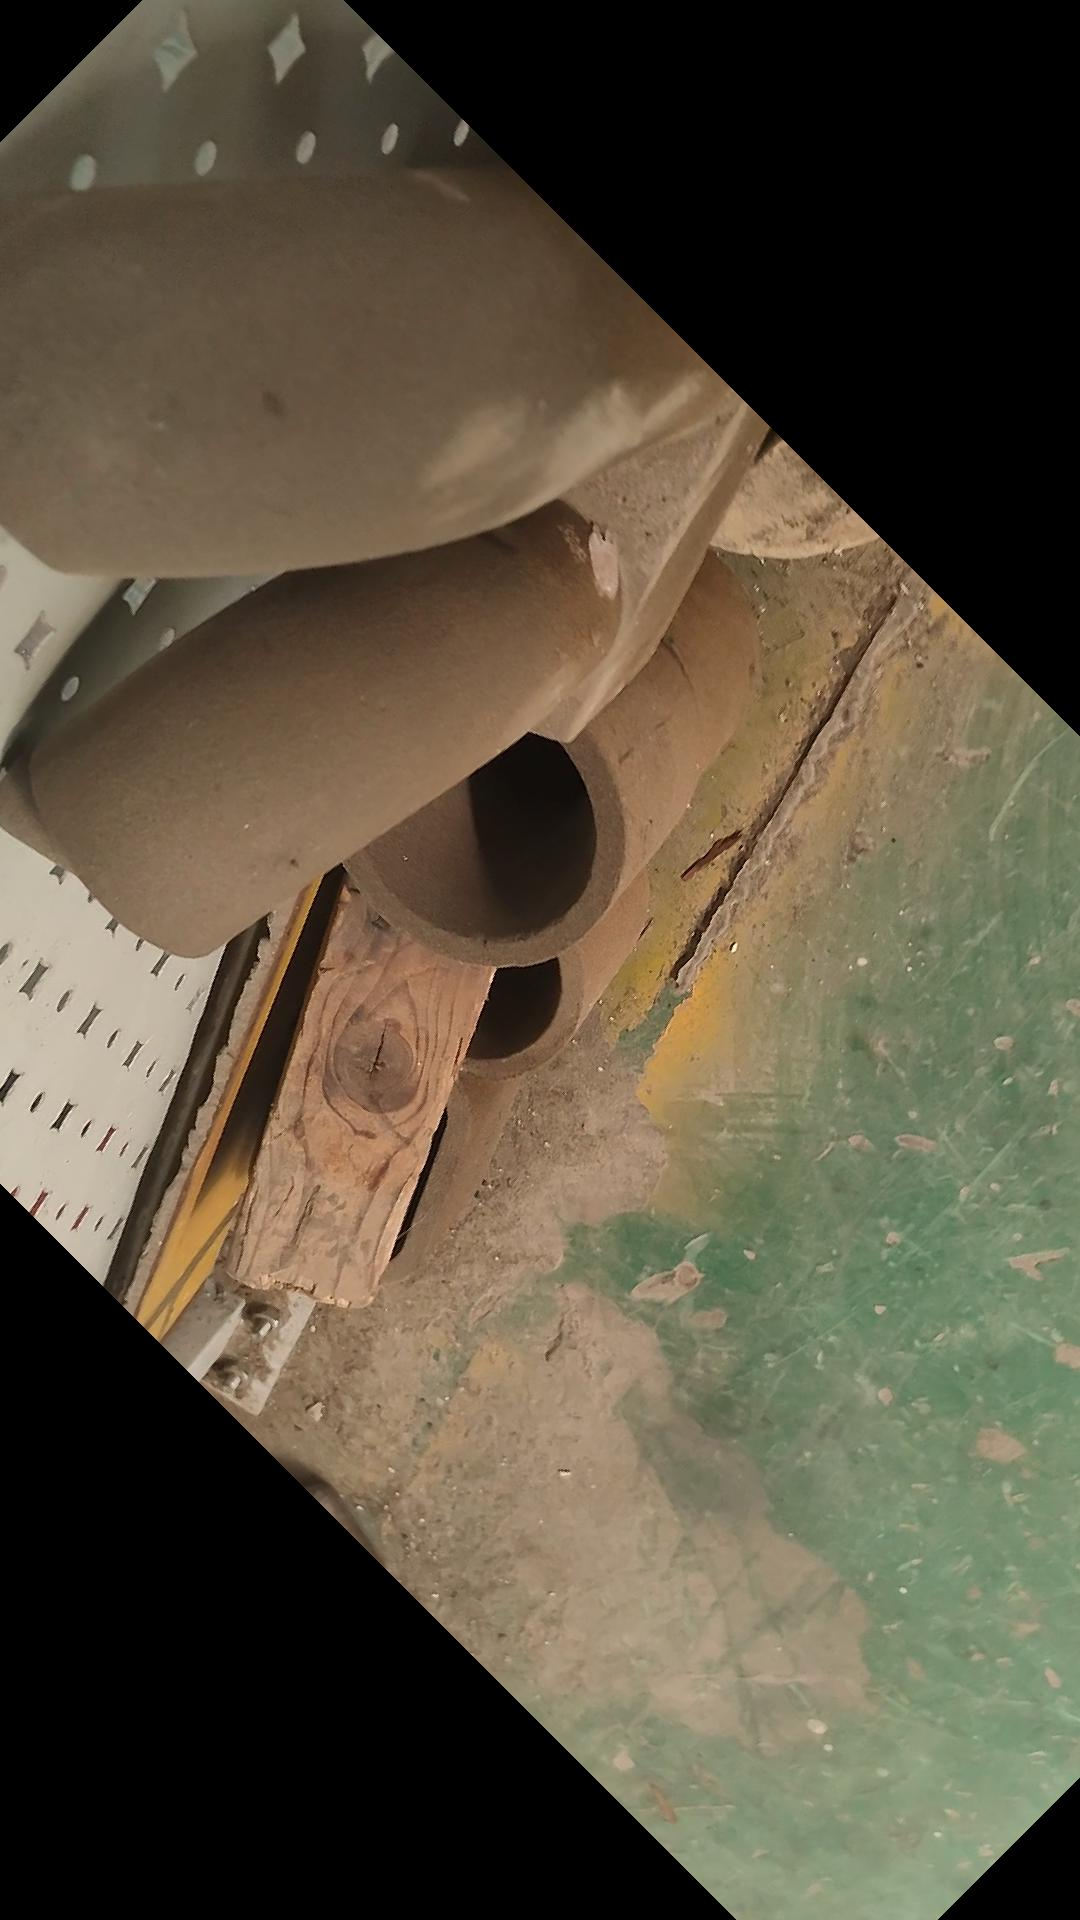pouring hole: (357, 723, 597, 942), (401, 923, 562, 1058)
